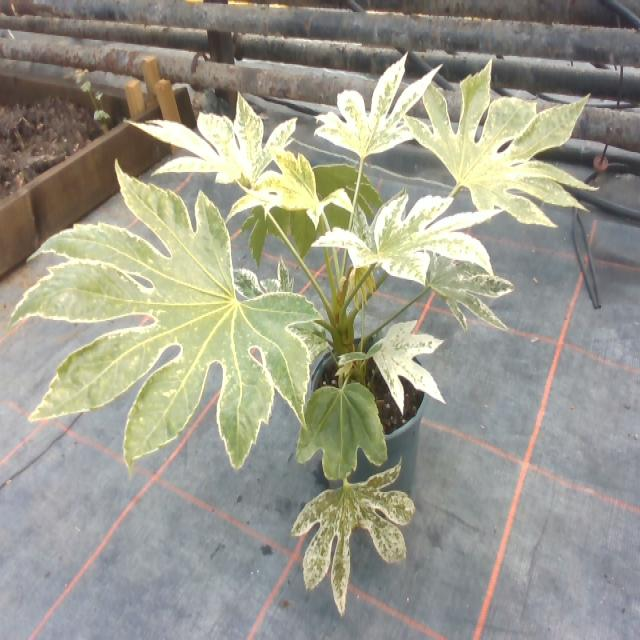Fatsia-japonica: (7, 145, 302, 471), (415, 66, 587, 235), (292, 471, 420, 616), (317, 193, 499, 289), (141, 88, 286, 190), (398, 202, 504, 322), (316, 57, 440, 156), (297, 367, 388, 475), (241, 144, 343, 228), (359, 311, 439, 407)
